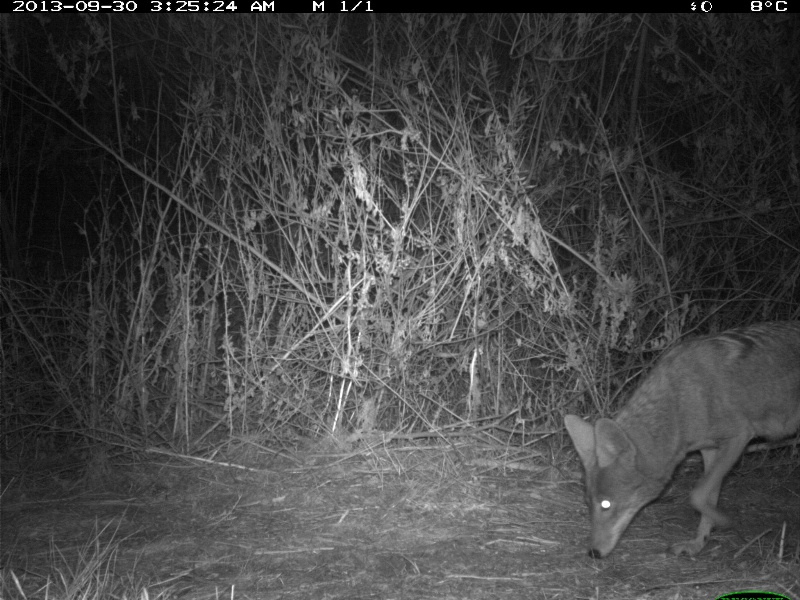coyote: (558, 318, 800, 565)
